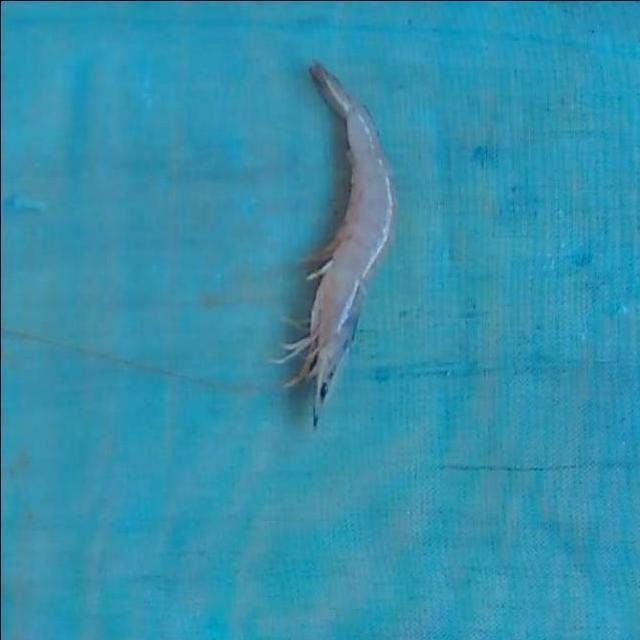shrimp: (276, 64, 395, 425)
